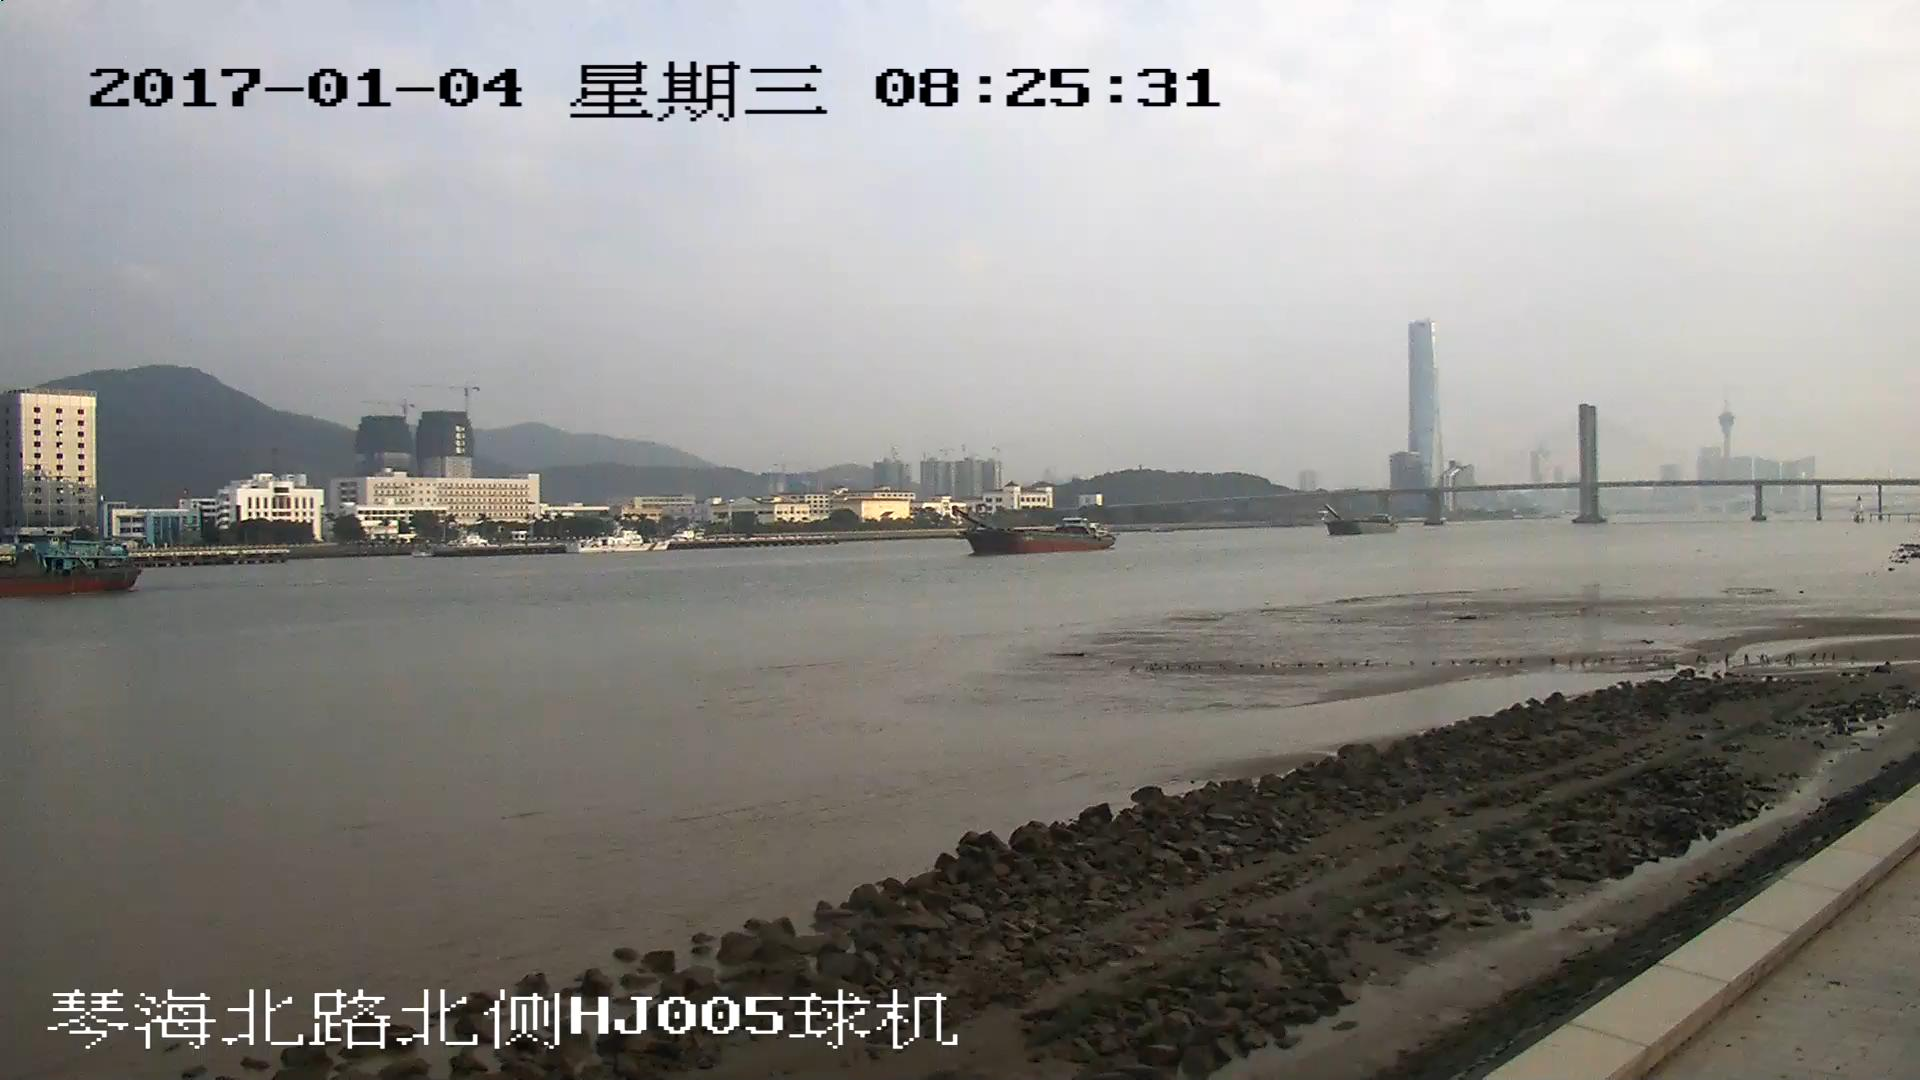bulk cargo carrier: (957, 508, 1112, 553)
